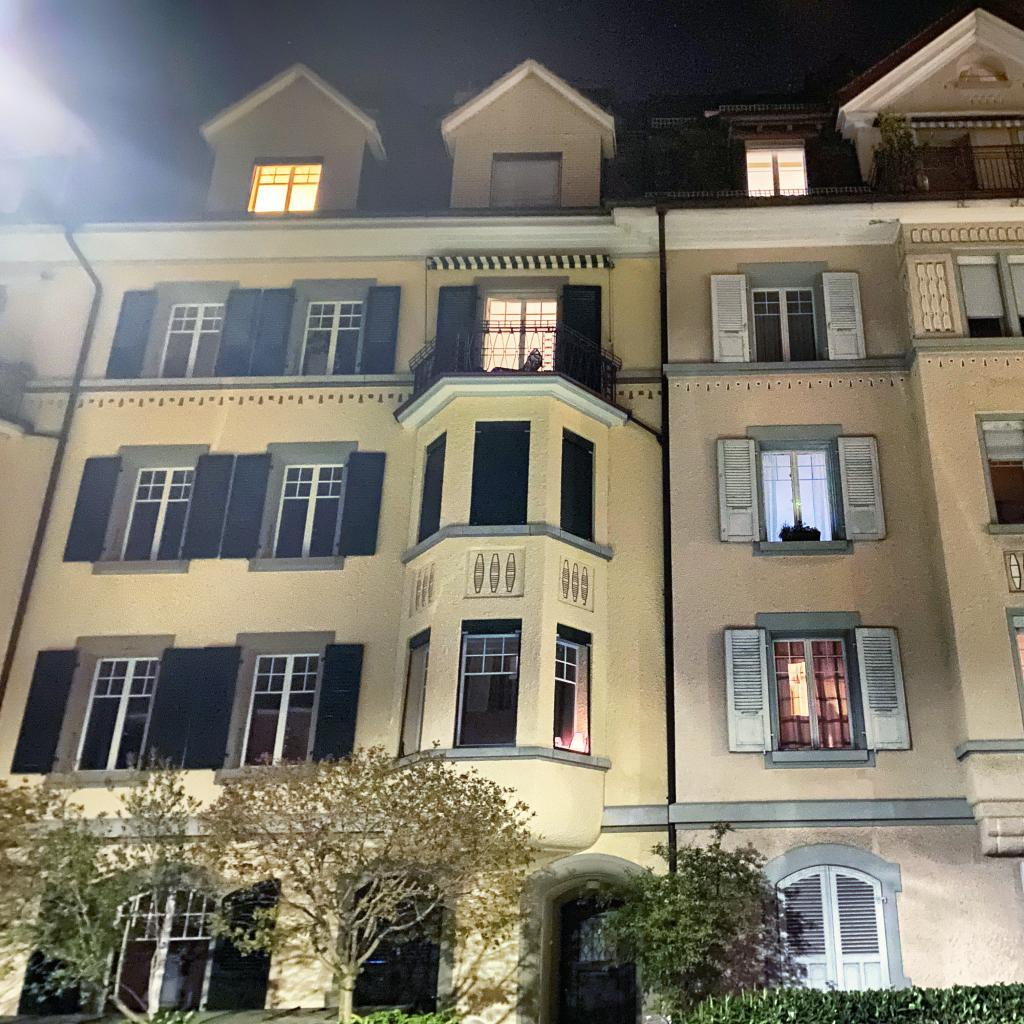balcony-fence: (391, 317, 631, 424), (916, 141, 1024, 195)
facade: (0, 0, 1024, 1024)
vegetation: (0, 738, 545, 1024), (590, 818, 1024, 1024), (868, 105, 935, 188), (778, 521, 822, 541)
window: (775, 862, 895, 989), (104, 883, 215, 1019), (351, 873, 446, 1012), (73, 654, 162, 772), (772, 636, 856, 751), (239, 653, 320, 768), (118, 465, 198, 561), (456, 630, 521, 746), (271, 462, 345, 559), (761, 448, 837, 541), (478, 290, 558, 372), (955, 253, 1024, 339), (470, 431, 529, 525), (156, 301, 228, 378), (750, 286, 821, 361), (297, 300, 365, 375), (980, 419, 1024, 527), (251, 164, 323, 212), (491, 157, 559, 207), (561, 438, 592, 542), (746, 148, 807, 197), (419, 440, 445, 542), (556, 634, 579, 749), (416, 648, 429, 752), (1011, 614, 1024, 692)
